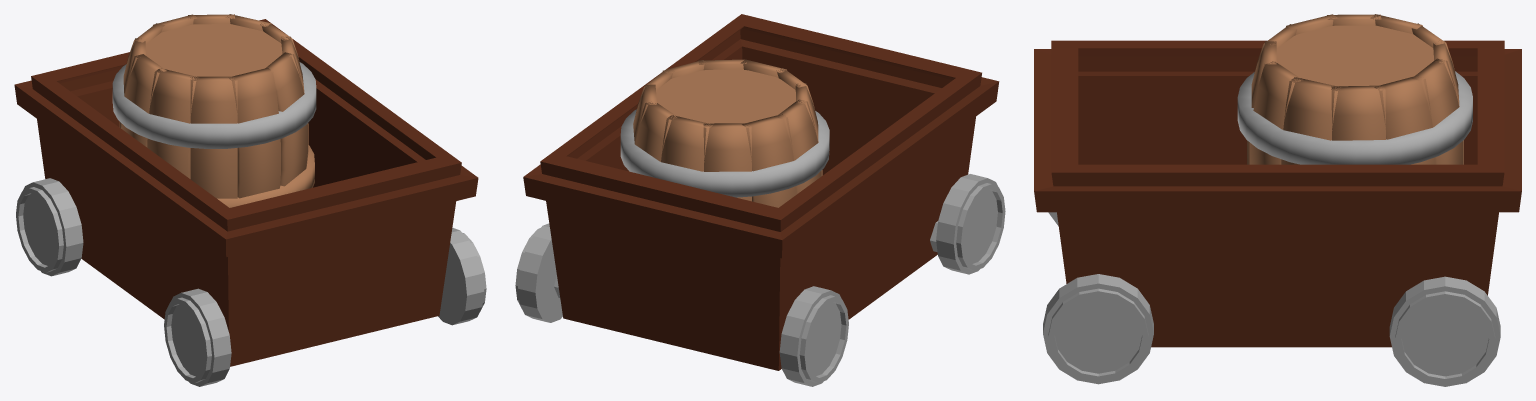
The model's file is lonk in a minecart.fbx.
3 views of the same model, side by side, from view 1: azimuth 30°, elevation 25°; view 2: azimuth 150°, elevation 25°; view 3: azimuth 270°, elevation 25° (orthographic). The views are drawn at different scales.
Visible parts, largest first — view 1: Cube; view 2: Cube; view 3: Cube.
Boxes of the visible parts, <box> form: Cube: <box>14,14,486,386</box>; Cube: <box>515,14,1005,386</box>; Cube: <box>1034,14,1521,386</box>.
Bounding box in the file's own units: 242 × 180 × 312.
